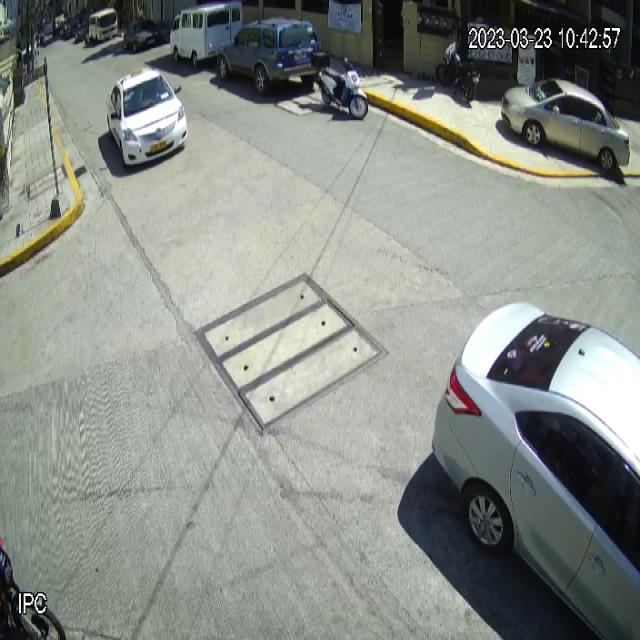Car: (432, 301, 640, 634), (501, 78, 630, 171), (216, 16, 323, 96), (106, 68, 188, 166)
Motorcycle: (312, 54, 368, 120)
Van: (169, 0, 242, 69)
